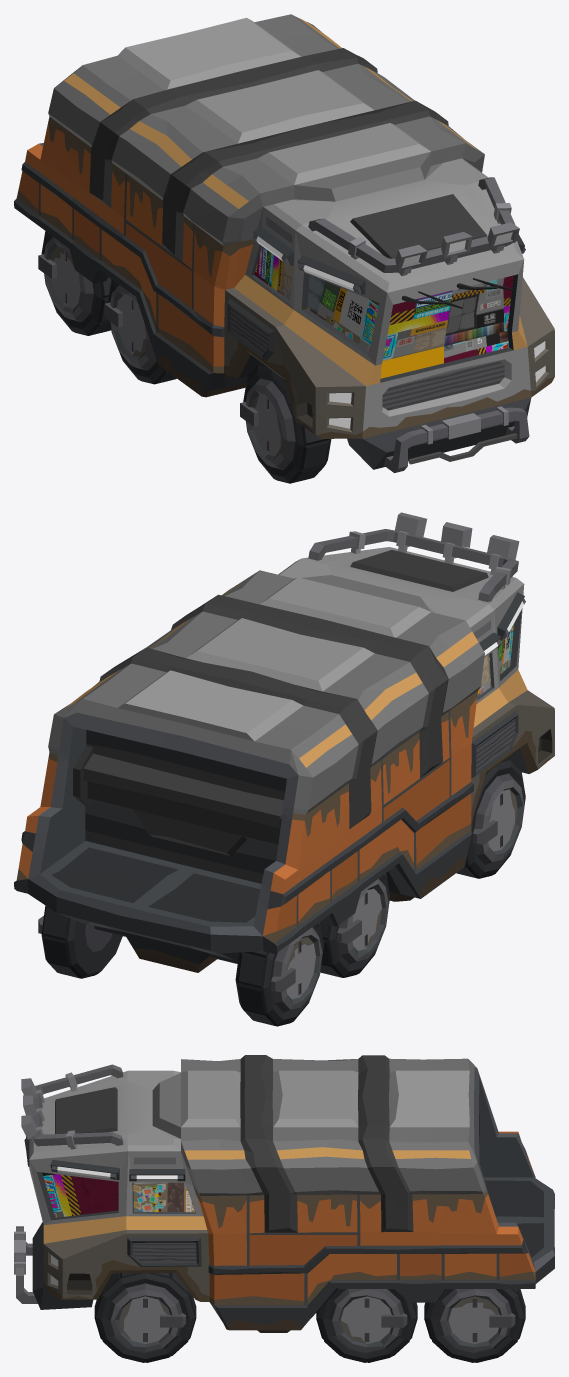
3 views of the same model, one above another, from view 1: azimuth 30°, elevation 25°; view 2: azimuth 150°, elevation 25°; view 3: azimuth 270°, elevation 25° (orthographic). The views are drawn at different scales.
Parts seen in each view (by area): view 1: SM_Veh_Garbage_01, SM_Veh_Garbage_01_Glass, SM_Veh_Garbage_01_Wheel_fr; view 2: SM_Veh_Garbage_01, SM_Veh_Garbage_01_Wheel_fr, SM_Veh_Garbage_01_Glass; view 3: SM_Veh_Garbage_01, SM_Veh_Garbage_01_Wheel_fl, SM_Veh_Garbage_01_Glass.
Part boxes in pixels (x1,y1,x2,y2): SM_Veh_Garbage_01: [14, 14, 554, 472]; SM_Veh_Garbage_01_Glass: [254, 246, 513, 378]; SM_Veh_Garbage_01_Wheel_fr: [240, 362, 331, 483]; SM_Veh_Garbage_01: [14, 512, 554, 1026]; SM_Veh_Garbage_01_Wheel_fr: [456, 758, 525, 878]; SM_Veh_Garbage_01_Glass: [477, 623, 514, 696]; SM_Veh_Garbage_01: [14, 1055, 554, 1362]; SM_Veh_Garbage_01_Wheel_fl: [94, 1273, 196, 1362]; SM_Veh_Garbage_01_Glass: [42, 1172, 194, 1217].
Size of the model in its own units: 291 by 285 by 623.
